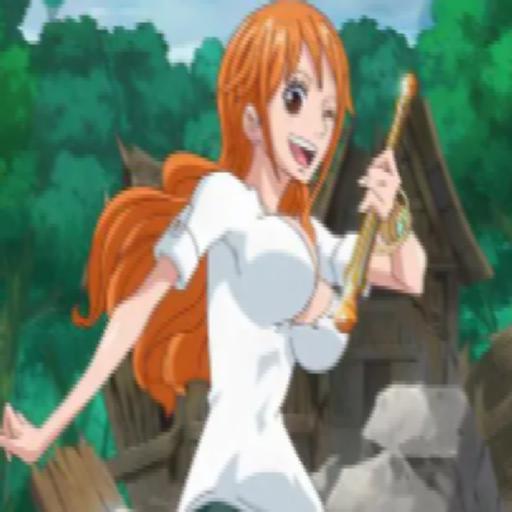Nami: (3, 1, 438, 512)
